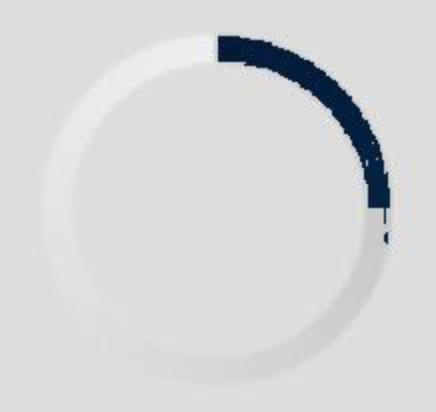ProgressBar: (1, 1, 435, 411)
